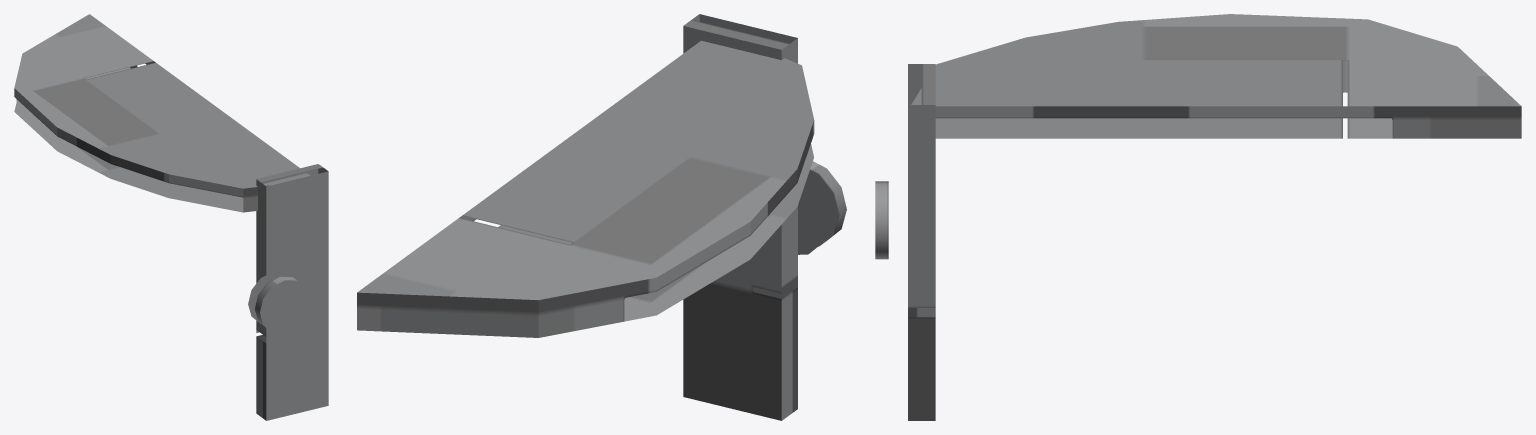
3 renders of one model, left to right at view 1: azimuth 30°, elevation 25°; view 2: azimuth 150°, elevation 25°; view 3: azimuth 270°, elevation 25°, orthographic. The views are drawn at different scales.
Bounding box in the file's own units: 0.7382 × 1.09 × 2.02.
